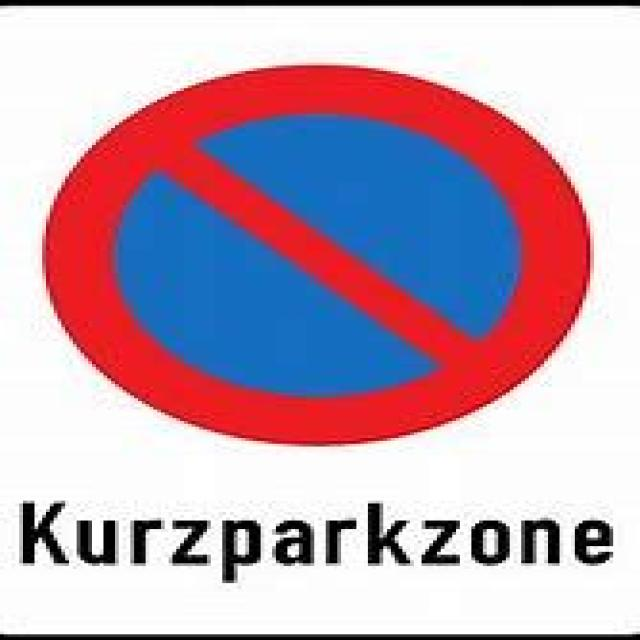do_not_enter: (34, 59, 586, 443)
